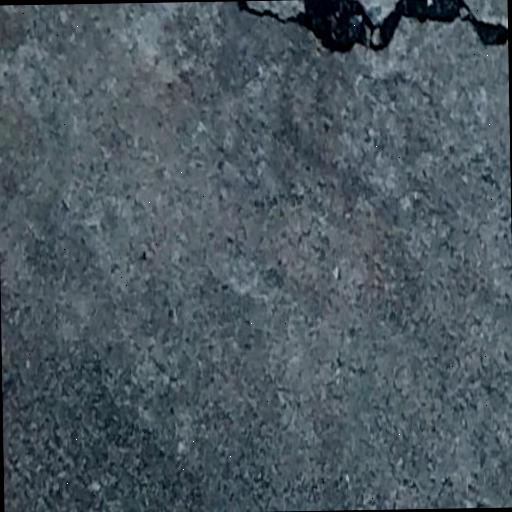spalling: (226, 0, 501, 61)
